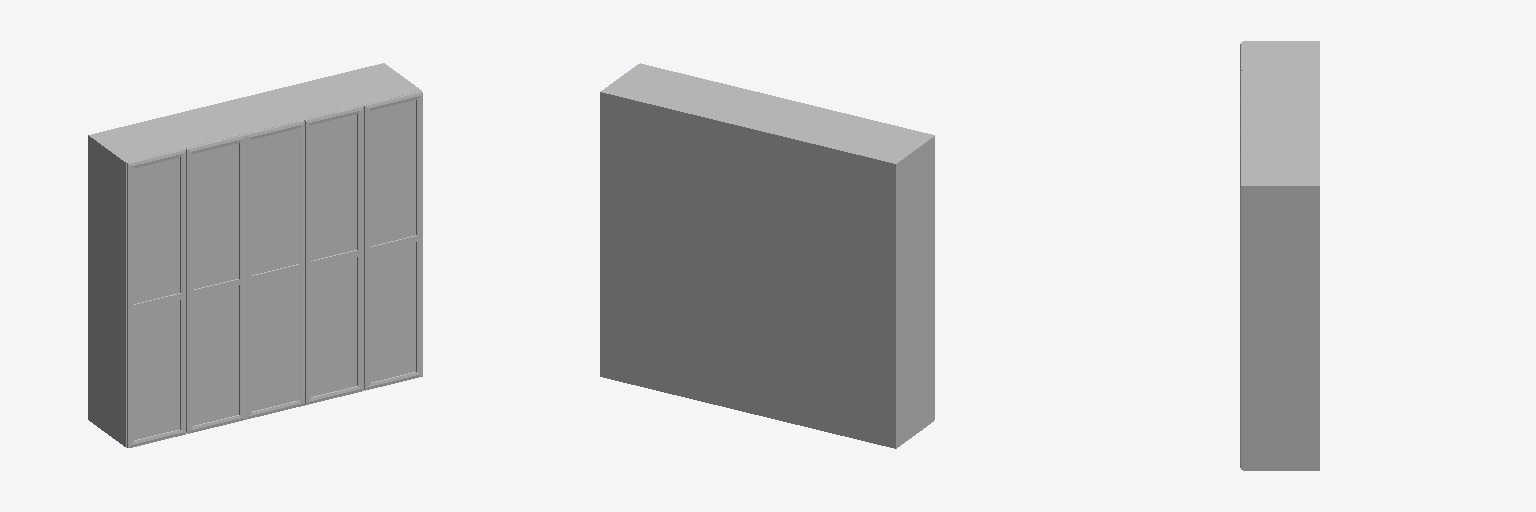
Rendered from housesp_109.obj.
The picture shows the model from 3 angles: view 1: azimuth 30°, elevation 25°; view 2: azimuth 150°, elevation 25°; view 3: azimuth 270°, elevation 25°; orthographic projection.
Size of the model in its own units: 217 by 200 by 50.49.